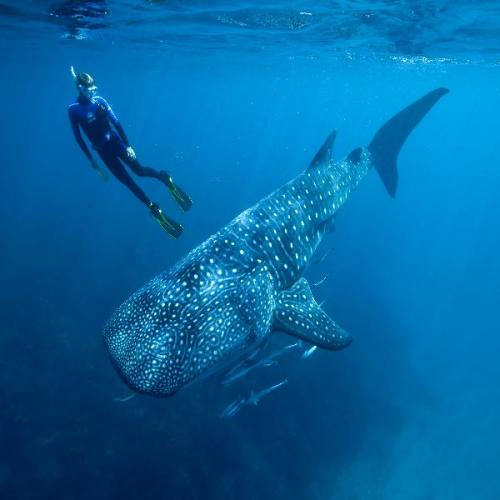shark-endangered: (102, 85, 452, 398)
